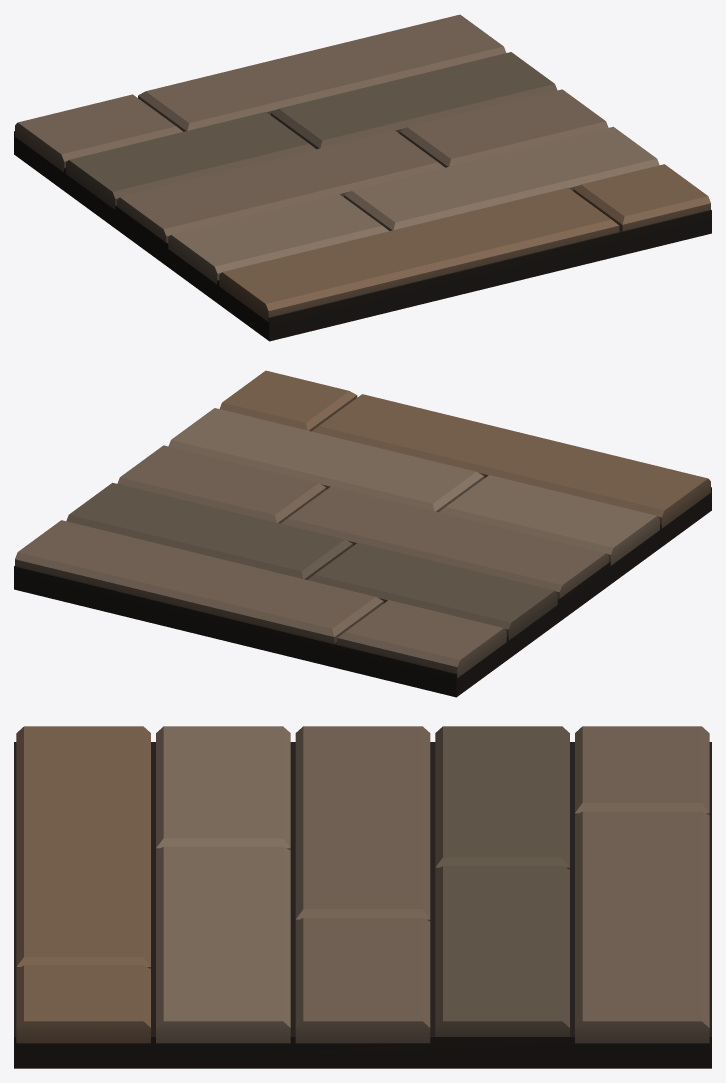
File: floor_planks_rotten_small_D.glb
3 views of the same model, one above another, from view 1: azimuth 30°, elevation 25°; view 2: azimuth 150°, elevation 25°; view 3: azimuth 270°, elevation 25° (orthographic). The views are drawn at different scales.
Parts seen in each view (by area): view 1: Item; view 2: Item; view 3: Item.
Boxes of the visible parts, left/top/right/bottom form: Item: left=14, top=14, right=711, bottom=341; Item: left=14, top=370, right=711, bottom=697; Item: left=14, top=726, right=711, bottom=1068.
Bounding box in the file's own units: 2 × 0.15 × 2.
Materials: 1 (1 with a texture image).
